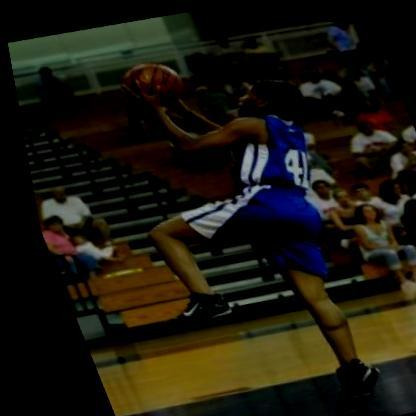basketball: (116, 55, 188, 110)
